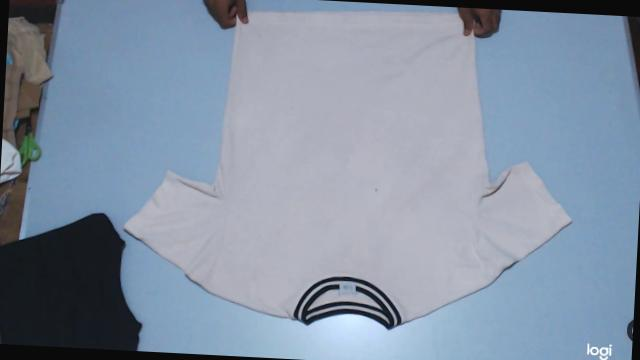new-garment: (125, 11, 569, 328)
